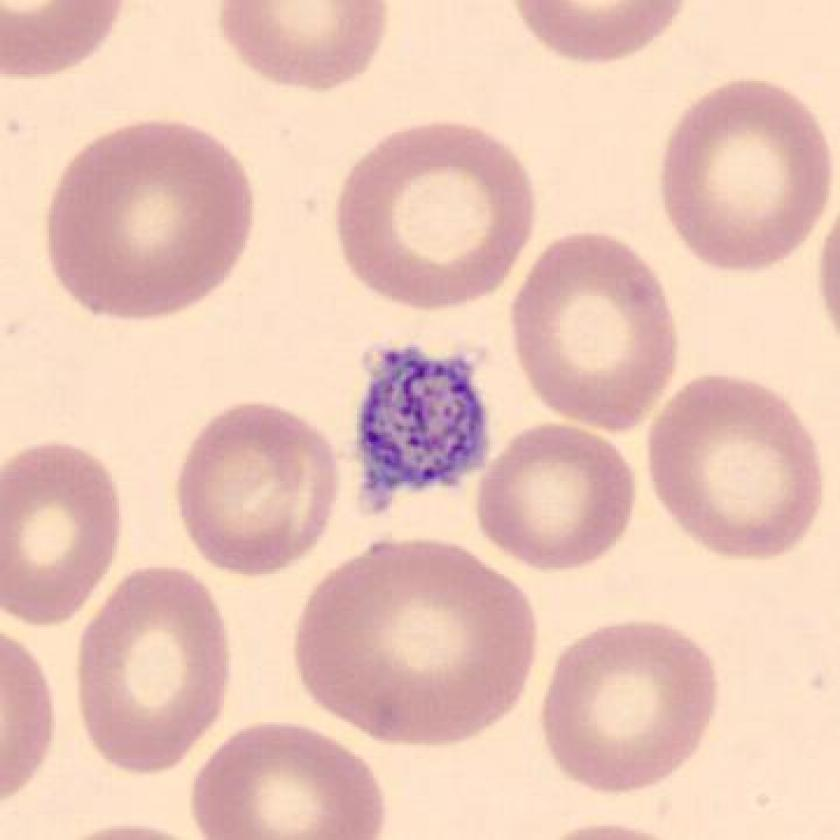platelets: (344, 337, 507, 508)
